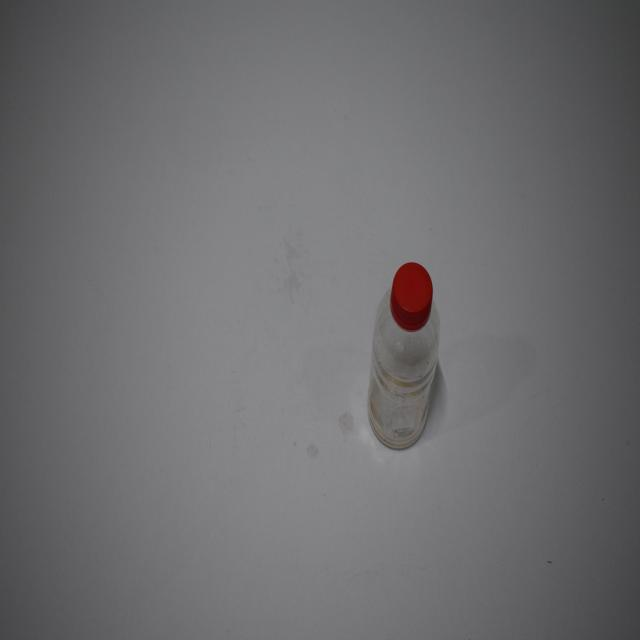empty: (368, 262, 440, 449)
